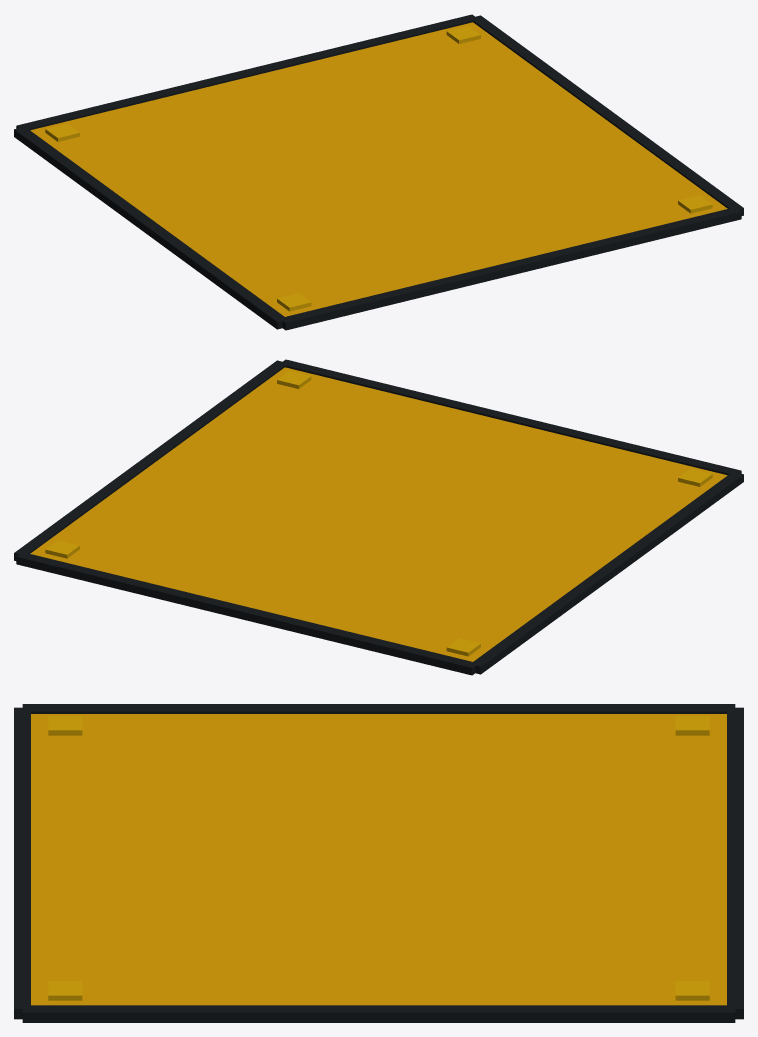
3 views of the same model, one above another, from view 1: azimuth 30°, elevation 25°; view 2: azimuth 150°, elevation 25°; view 3: azimuth 270°, elevation 25° (orthographic). The views are drawn at different scales.
Parts seen in each view (by area): view 1: zone-floor, zone-edge-b, zone-edge-c, zone-edge-a, zone-edge-d; view 2: zone-floor, zone-edge-a, zone-edge-c, zone-edge-b, zone-edge-d; view 3: zone-floor, zone-edge-d, zone-edge-c, zone-edge-a, zone-edge-b, zone-corner:1, zone-corner:2, zone-corner:3, zone-corner:4.
Boxes of the visible parts, x1,y1,x2,y2 form: zone-floor: [30, 22, 727, 316]; zone-edge-b: [280, 207, 741, 330]; zone-edge-c: [14, 127, 286, 329]; zone-edge-a: [16, 14, 477, 130]; zone-edge-d: [471, 15, 743, 215]; zone-floor: [30, 367, 727, 661]; zone-edge-a: [16, 552, 477, 675]; zone-edge-c: [470, 472, 743, 674]; zone-edge-b: [280, 359, 741, 475]; zone-edge-d: [14, 360, 287, 560]; zone-floor: [31, 714, 726, 1005]; zone-edge-d: [22, 1005, 735, 1022]; zone-edge-c: [22, 704, 735, 713]; zone-edge-a: [727, 707, 743, 1019]; zone-edge-b: [14, 707, 30, 1019]; zone-corner:1: [675, 716, 709, 735]; zone-corner:2: [675, 981, 709, 1000]; zone-corner:3: [48, 716, 82, 735]; zone-corner:4: [48, 981, 82, 1000].
Bounding box in the file's own units: 2.56 × 0.05 × 2.56.
